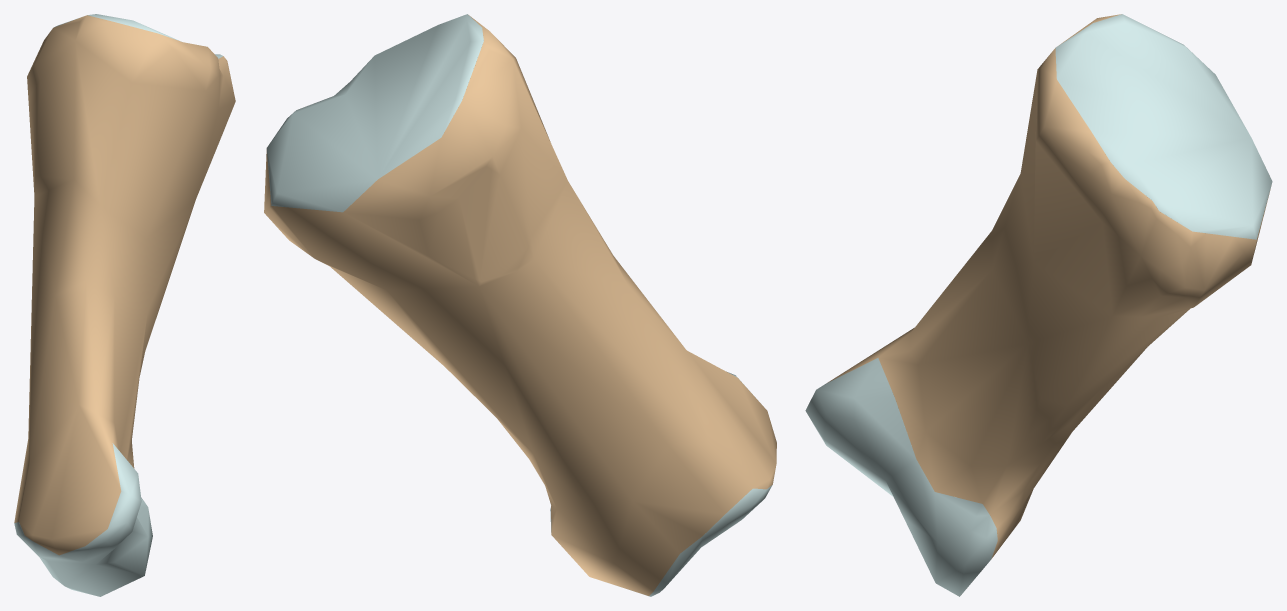
File: Phalanx_proximal_1st_finger_right.glb
3 renders of one model, left to right at view 1: azimuth 30°, elevation 25°; view 2: azimuth 150°, elevation 25°; view 3: azimuth 270°, elevation 25°, orthographic. The views are drawn at different scales.
Parts seen in each view (by area): view 1: Proximal_phalanx_of_1st_finger.r_Generated_Mesh_From_X3D.711; view 2: Proximal_phalanx_of_1st_finger.r_Generated_Mesh_From_X3D.711; view 3: Proximal_phalanx_of_1st_finger.r_Generated_Mesh_From_X3D.711.
Part boxes in pixels (x1,y1,x2,y2): Proximal_phalanx_of_1st_finger.r_Generated_Mesh_From_X3D.711: (14, 14, 235, 596); Proximal_phalanx_of_1st_finger.r_Generated_Mesh_From_X3D.711: (264, 14, 776, 596); Proximal_phalanx_of_1st_finger.r_Generated_Mesh_From_X3D.711: (805, 14, 1272, 596).
Size of the model in its own units: 0.0209 by 0.0325 by 0.023.
